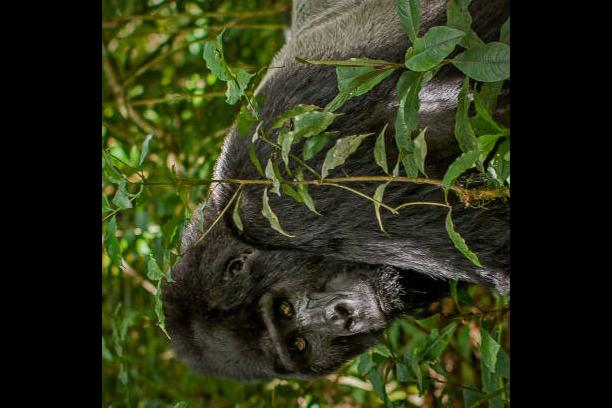goriile_montagne: (157, 0, 510, 388)
